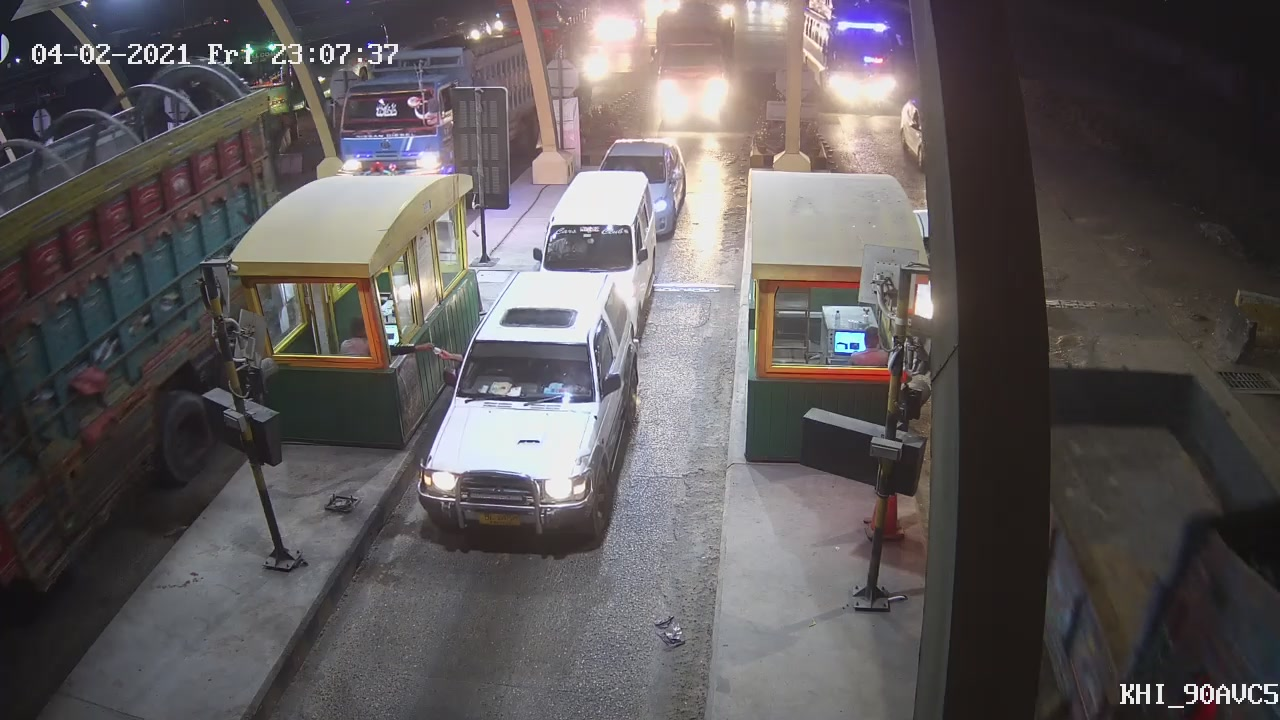F1: (410, 269, 638, 538)
